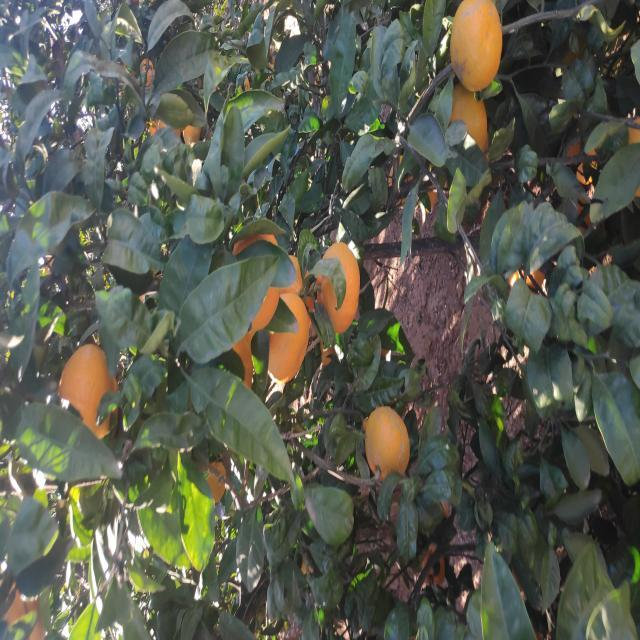Jeruk Sudah Matang: (205, 60, 298, 116), (550, 450, 640, 502), (306, 315, 399, 359), (257, 266, 347, 308), (156, 366, 233, 412), (486, 450, 552, 488), (343, 272, 387, 302), (382, 232, 411, 276), (254, 232, 310, 254), (140, 206, 183, 227), (495, 183, 517, 200)
